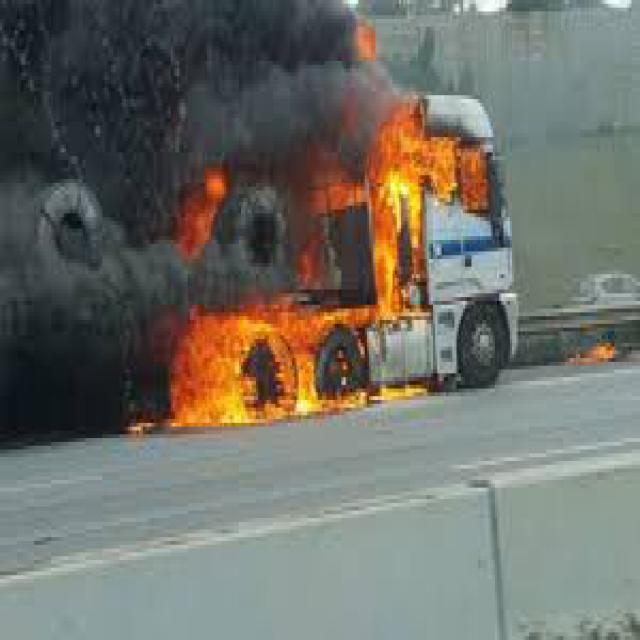Fire: (163, 152, 455, 411)
Smoke: (23, 0, 358, 181)
